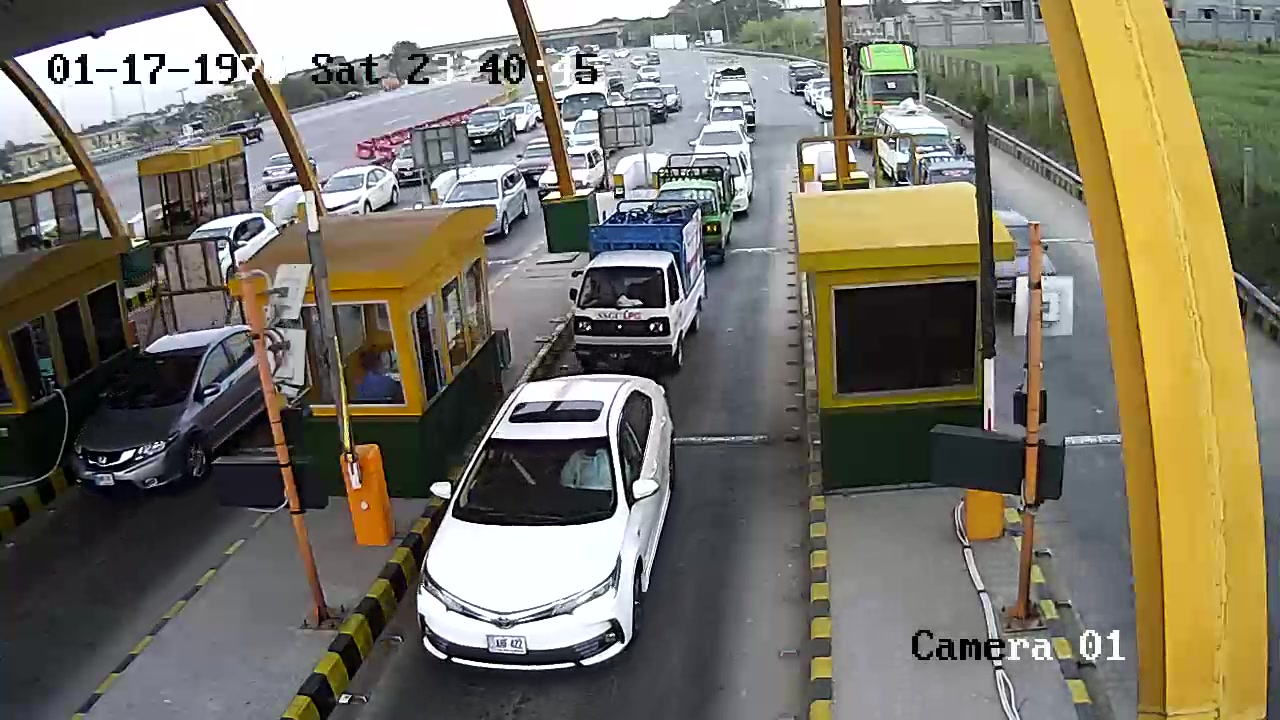F1: (391, 369, 678, 691)
